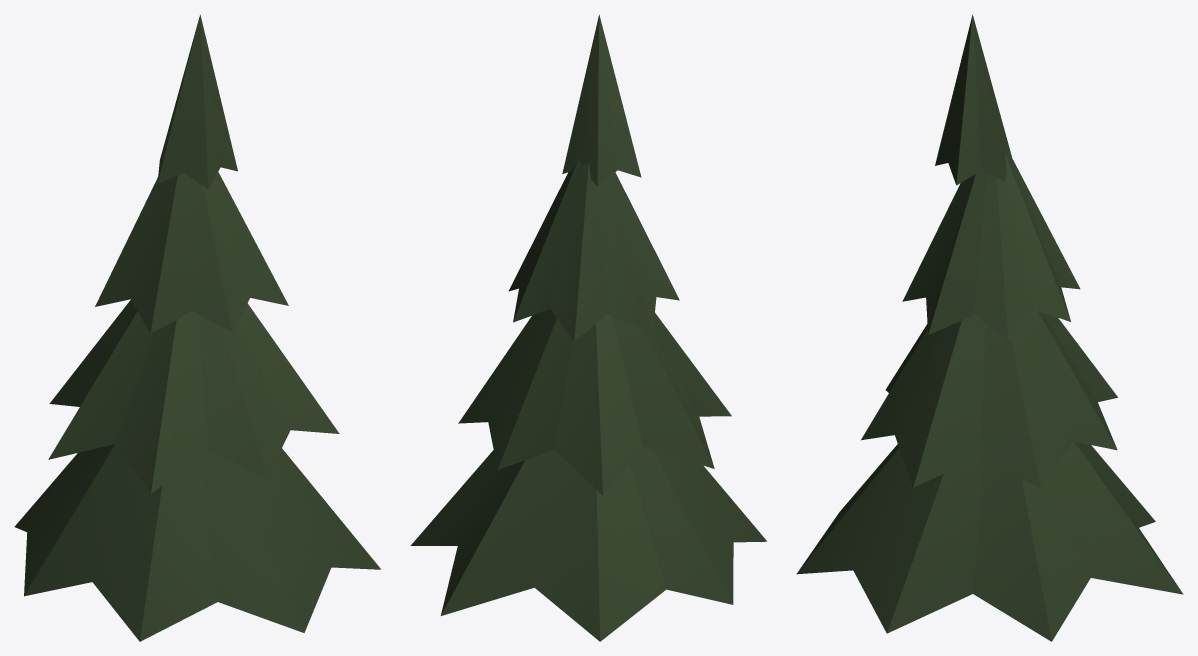
Rendered from conifer_c.glb.
3 renders of one model, left to right at view 1: azimuth 30°, elevation 25°; view 2: azimuth 150°, elevation 25°; view 3: azimuth 270°, elevation 25°, orthographic. The views are drawn at different scales.
Parts seen in each view (by area): view 1: Body_LOD0; view 2: Body_LOD0; view 3: Body_LOD0.
Part boxes in pixels (<box>): Body_LOD0: <box>14,14,380,641</box>; Body_LOD0: <box>410,14,766,641</box>; Body_LOD0: <box>796,14,1183,641</box>.
Size of the model in its own units: 3.15 by 5.58 by 3.41.
